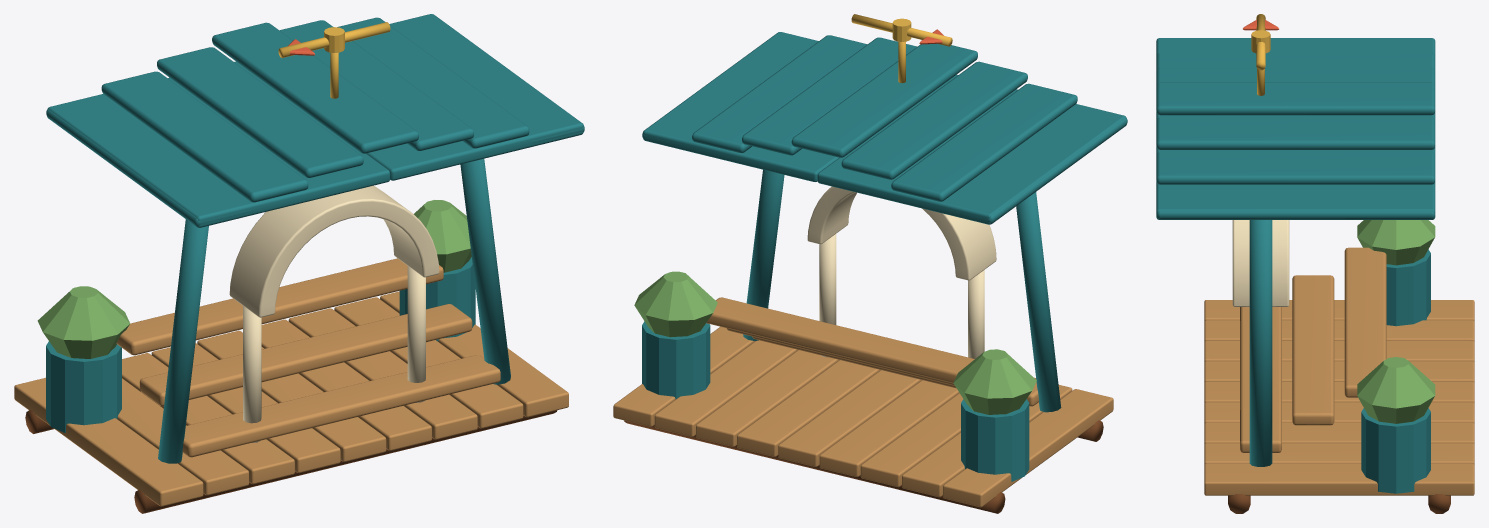
File: skate-pavilion.glb
The picture shows the model from 3 angles, left to right: view 1: azimuth 30°, elevation 25°; view 2: azimuth 150°, elevation 25°; view 3: azimuth 270°, elevation 25°; orthographic projection. The views are drawn at different scales.
Parts seen in each view (by area): view 1: Structure, AnimatedDetail; view 2: Structure, AnimatedDetail; view 3: Structure, AnimatedDetail.
Boxes of the visible parts, left/top/right/bottom form: Structure: left=14, top=14, right=584, bottom=513; AnimatedDetail: left=278, top=22, right=390, bottom=57; Structure: left=613, top=32, right=1127, bottom=513; AnimatedDetail: left=851, top=14, right=952, bottom=46; Structure: left=1156, top=38, right=1474, bottom=513; AnimatedDetail: left=1243, top=14, right=1278, bottom=70.
Bounding box in the file's own units: 5.3 × 4.9 × 3.65.
